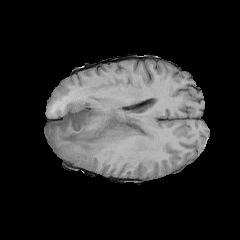glioma: (45, 104, 169, 161)
